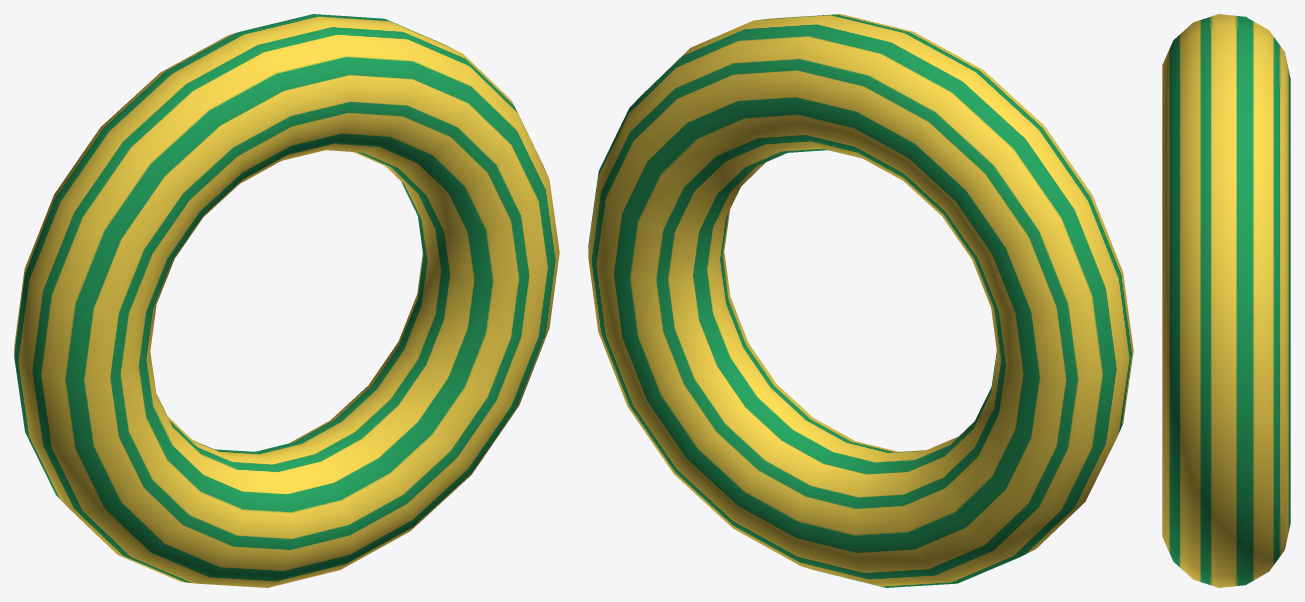
The model's file is M_arche_small.fbx.
3 views of the same model, side by side, from view 1: azimuth 30°, elevation 25°; view 2: azimuth 150°, elevation 25°; view 3: azimuth 270°, elevation 25° (orthographic). The views are drawn at different scales.
Parts seen in each view (by area): view 1: Plane.007; view 2: Plane.007; view 3: Plane.007.
Boxes of the visible parts, x1=… form: Plane.007: x1=14, y1=14, x2=559, y2=587; Plane.007: x1=588, y1=14, x2=1133, y2=587; Plane.007: x1=1162, y1=14, x2=1290, y2=587.
Size of the model in its own units: 469 by 464 by 105.
